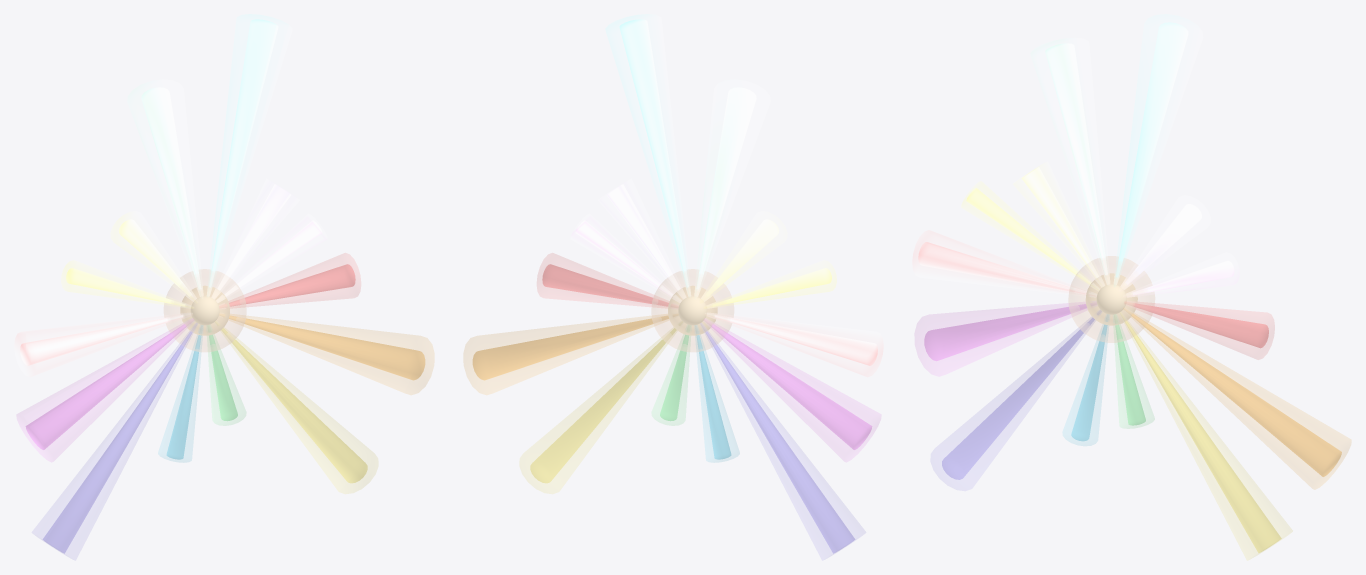
The model's file is fx3d-light-rays.glb.
3 views of the same model, side by side, from view 1: azimuth 30°, elevation 25°; view 2: azimuth 150°, elevation 25°; view 3: azimuth 330°, elevation 25° (orthographic). The views are drawn at different scales.
Visible parts, largest first — view 1: ray11_1, ray5_1, ray1_1, ray10_1, ray6_1, ray2_1, Sphere.002, ray7_1, ray11_0, ray5_0, ray0_1, ray1_0 (+19 smaller); view 2: ray11_1, ray5_1, ray1_1, ray10_1, ray6_1, ray2_1, Sphere.002, ray7_1, ray11_0, ray5_0, ray0_1, ray1_0 (+19 smaller); view 3: ray11_1, ray1_1, ray2_1, ray10_1, ray5_1, ray6_1, Sphere.002, ray7_1, ray1_0, ray11_0, ray2_0, ray10_0 (+19 smaller).
Part boxes in pixels (left/top/right/bottom): ray11_1: left=208, top=14, right=291, bottom=287; ray5_1: left=32, top=331, right=192, bottom=560; ray1_1: left=229, top=314, right=434, bottom=394; ray10_1: left=127, top=79, right=202, bottom=290; ray6_1: left=16, top=323, right=187, bottom=461; ray2_1: left=221, top=327, right=378, bottom=493; Sphere.002: left=164, top=269, right=246, bottom=351; ray7_1: left=14, top=314, right=183, bottom=376; ray11_0: left=208, top=19, right=278, bottom=295; ray5_0: left=42, top=324, right=196, bottom=553; ray0_1: left=229, top=253, right=360, bottom=307; ray1_0: left=220, top=314, right=425, bottom=380; ray11_1: left=606, top=14, right=689, bottom=287; ray5_1: left=705, top=331, right=865, bottom=560; ray1_1: left=463, top=314, right=668, bottom=394; ray10_1: left=695, top=79, right=770, bottom=290; ray6_1: left=710, top=323, right=881, bottom=461; ray2_1: left=519, top=327, right=676, bottom=493; Sphere.002: left=651, top=269, right=733, bottom=351; ray7_1: left=714, top=314, right=883, bottom=376; ray11_0: left=619, top=19, right=689, bottom=295; ray5_0: left=701, top=324, right=855, bottom=553; ray0_1: left=537, top=253, right=668, bottom=307; ray1_0: left=472, top=314, right=677, bottom=380; ray11_1: left=1115, top=14, right=1202, bottom=278; ray1_1: left=1130, top=313, right=1351, bottom=489; ray2_1: left=1124, top=321, right=1292, bottom=560; ray10_1: left=1031, top=38, right=1108, bottom=275; ray5_1: left=930, top=317, right=1095, bottom=490; ray6_1: left=914, top=302, right=1087, bottom=376; Sphere.002: left=1068, top=256, right=1154, bottom=342; ray7_1: left=912, top=230, right=1086, bottom=295; ray1_0: left=1124, top=308, right=1341, bottom=476; ray11_0: left=1114, top=22, right=1188, bottom=286; ray2_0: left=1120, top=312, right=1281, bottom=552; ray10_0: left=1045, top=43, right=1108, bottom=284.
Bounding box in the file's own units: 1.12 × 1.3 × 0.2.
